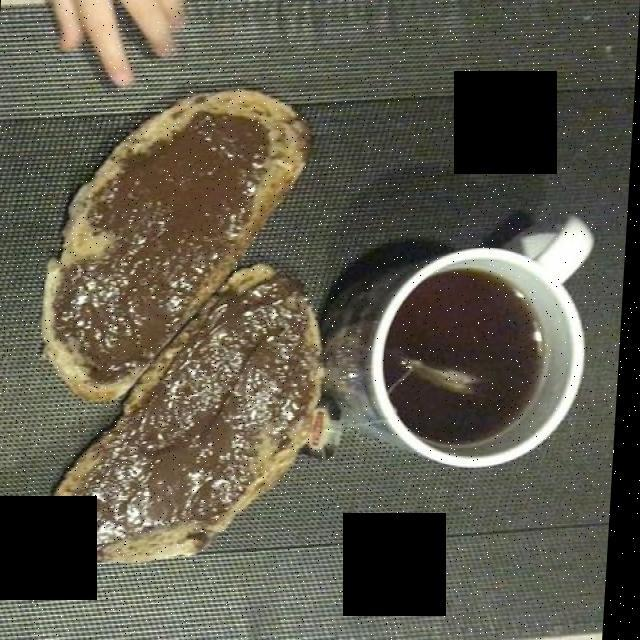bread: (41, 82, 323, 572)
nutella: (53, 110, 316, 547)
tea: (392, 271, 548, 447)
